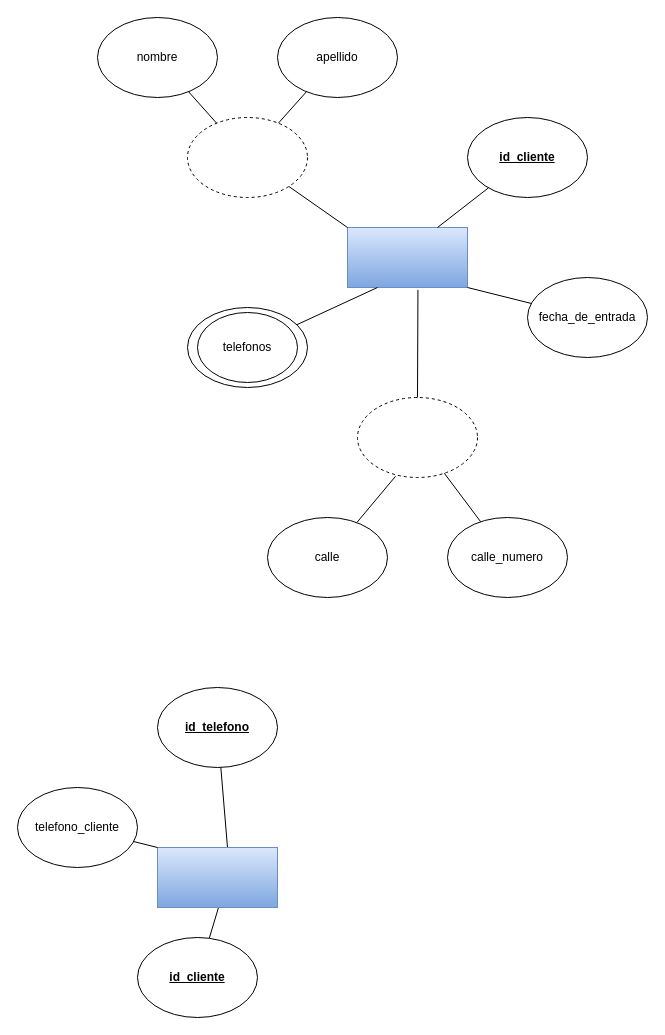
This 665x1035 diagram has some shape labels left out. Here are the shapes that lost their labels. From the top down, the centre of each, then its label:
point 247,157: nombre y apellido
point 407,257: CLIENTE
point 417,437: domicilio
point 217,877: TELEFONO
